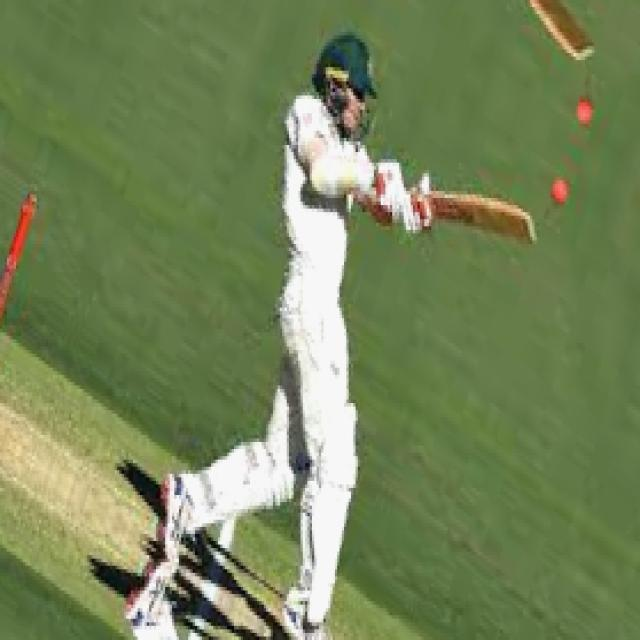toe: (516, 204, 538, 248)
